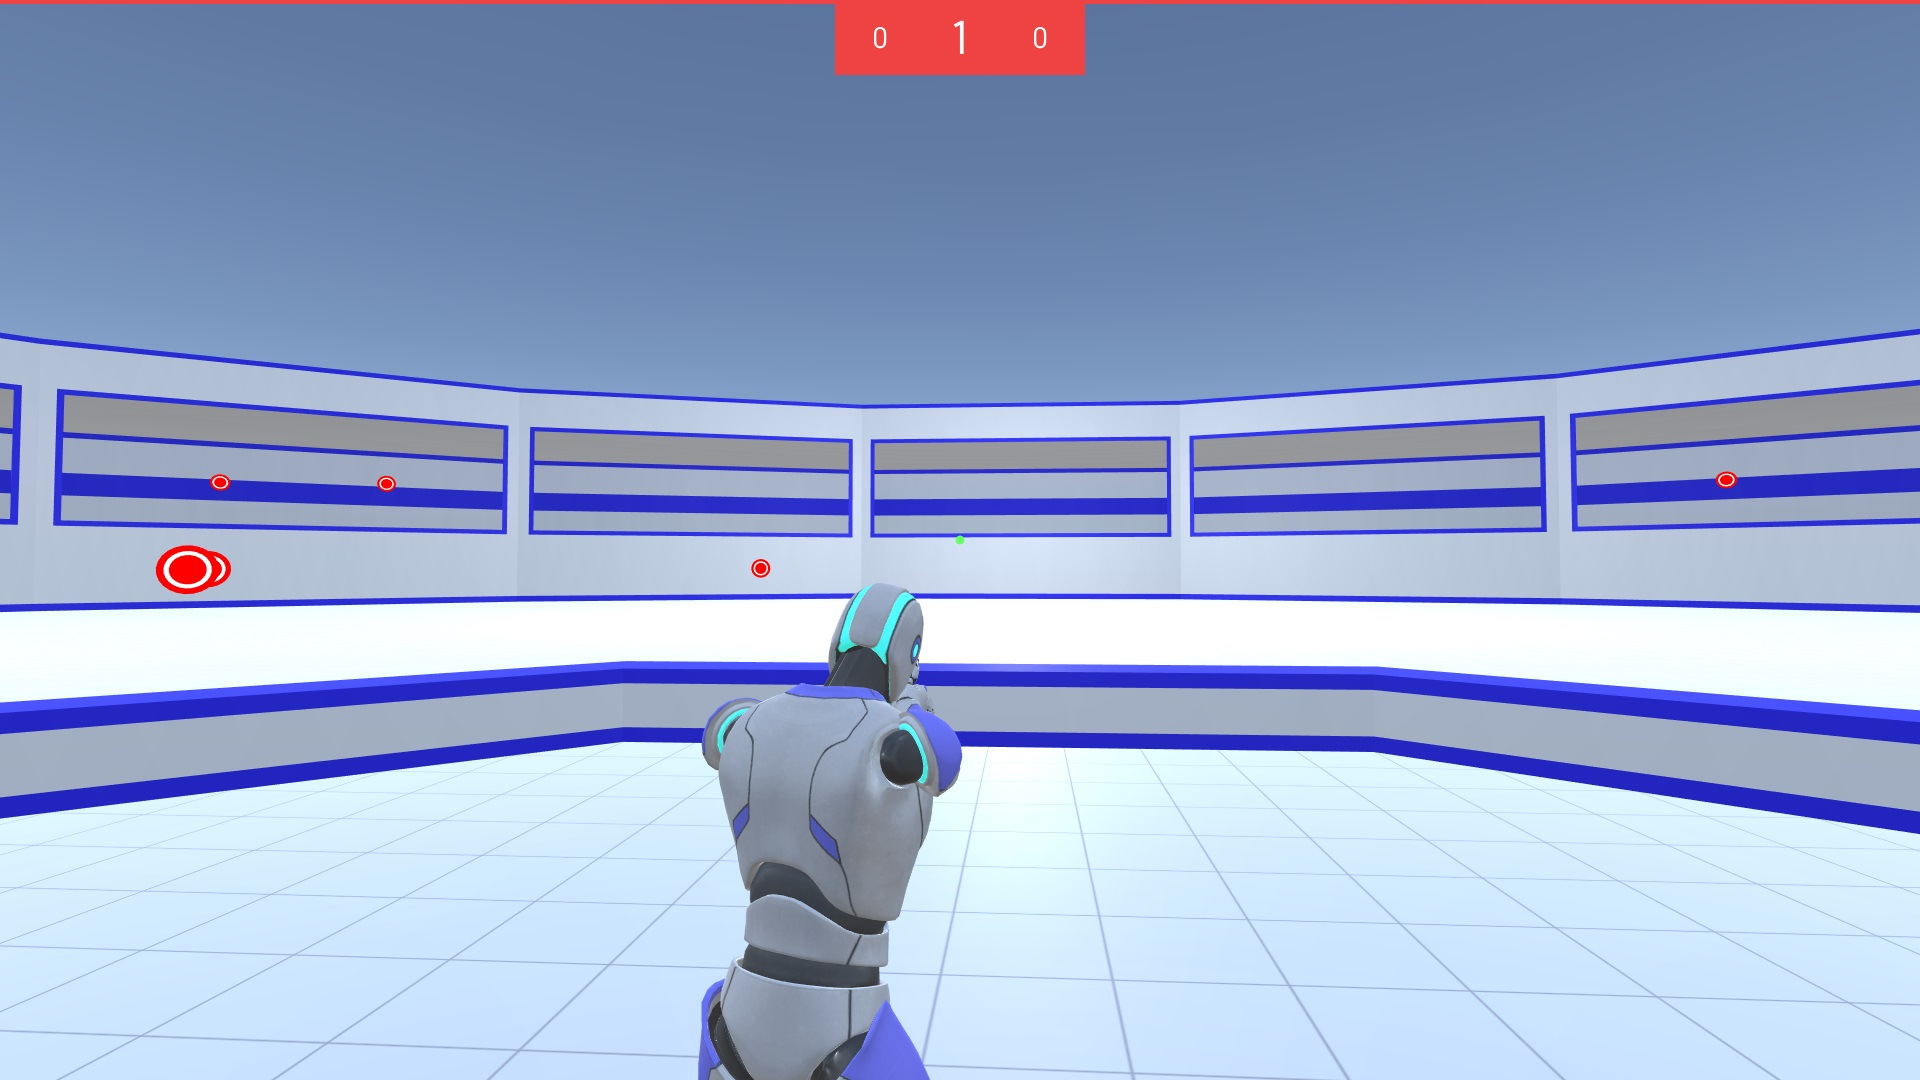Target: (156, 545, 218, 596), (194, 551, 232, 587), (208, 473, 232, 492), (1716, 471, 1737, 488), (752, 559, 770, 578), (376, 476, 396, 493)
